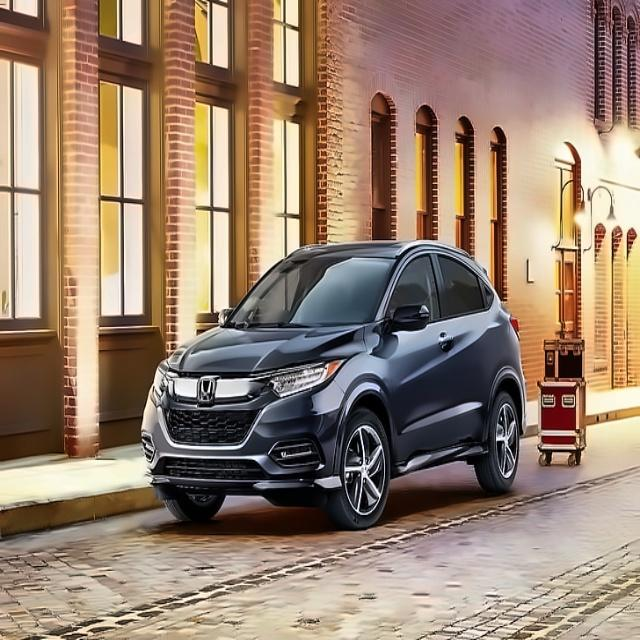Car hood: (167, 323, 369, 377)
Fender - -F-L-: (328, 319, 401, 475)
Fender - -R-L-: (493, 321, 527, 402)
Front bumper: (138, 399, 350, 504)
Headlight - -L-: (261, 356, 350, 403)
Headlight - -R-: (130, 362, 176, 404)
Passenger-s door - -F-L-: (389, 246, 455, 463)
Passenger-s door - -R-L-: (444, 250, 507, 450)
Rear bumper: (516, 380, 537, 444)
Rear light - -L-: (501, 308, 529, 340)
Side bumper - -L-: (391, 438, 494, 482)
Side mirror - -L-: (380, 301, 432, 344)
Side mirror - -R-: (208, 301, 240, 329)
